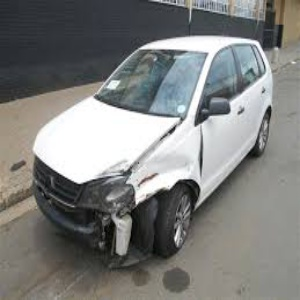bumper: (81, 206, 147, 270)
